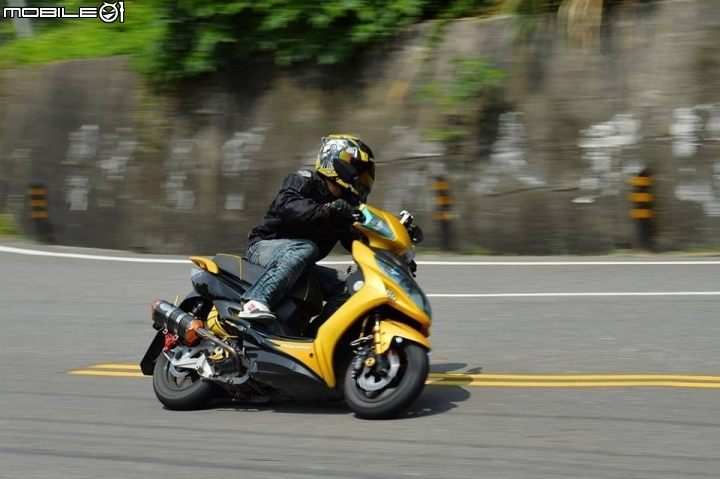helmet: (315, 133, 375, 192)
